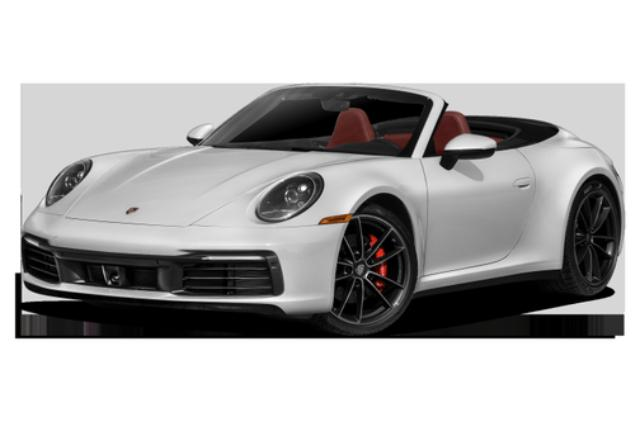porsche: (21, 82, 626, 336)
